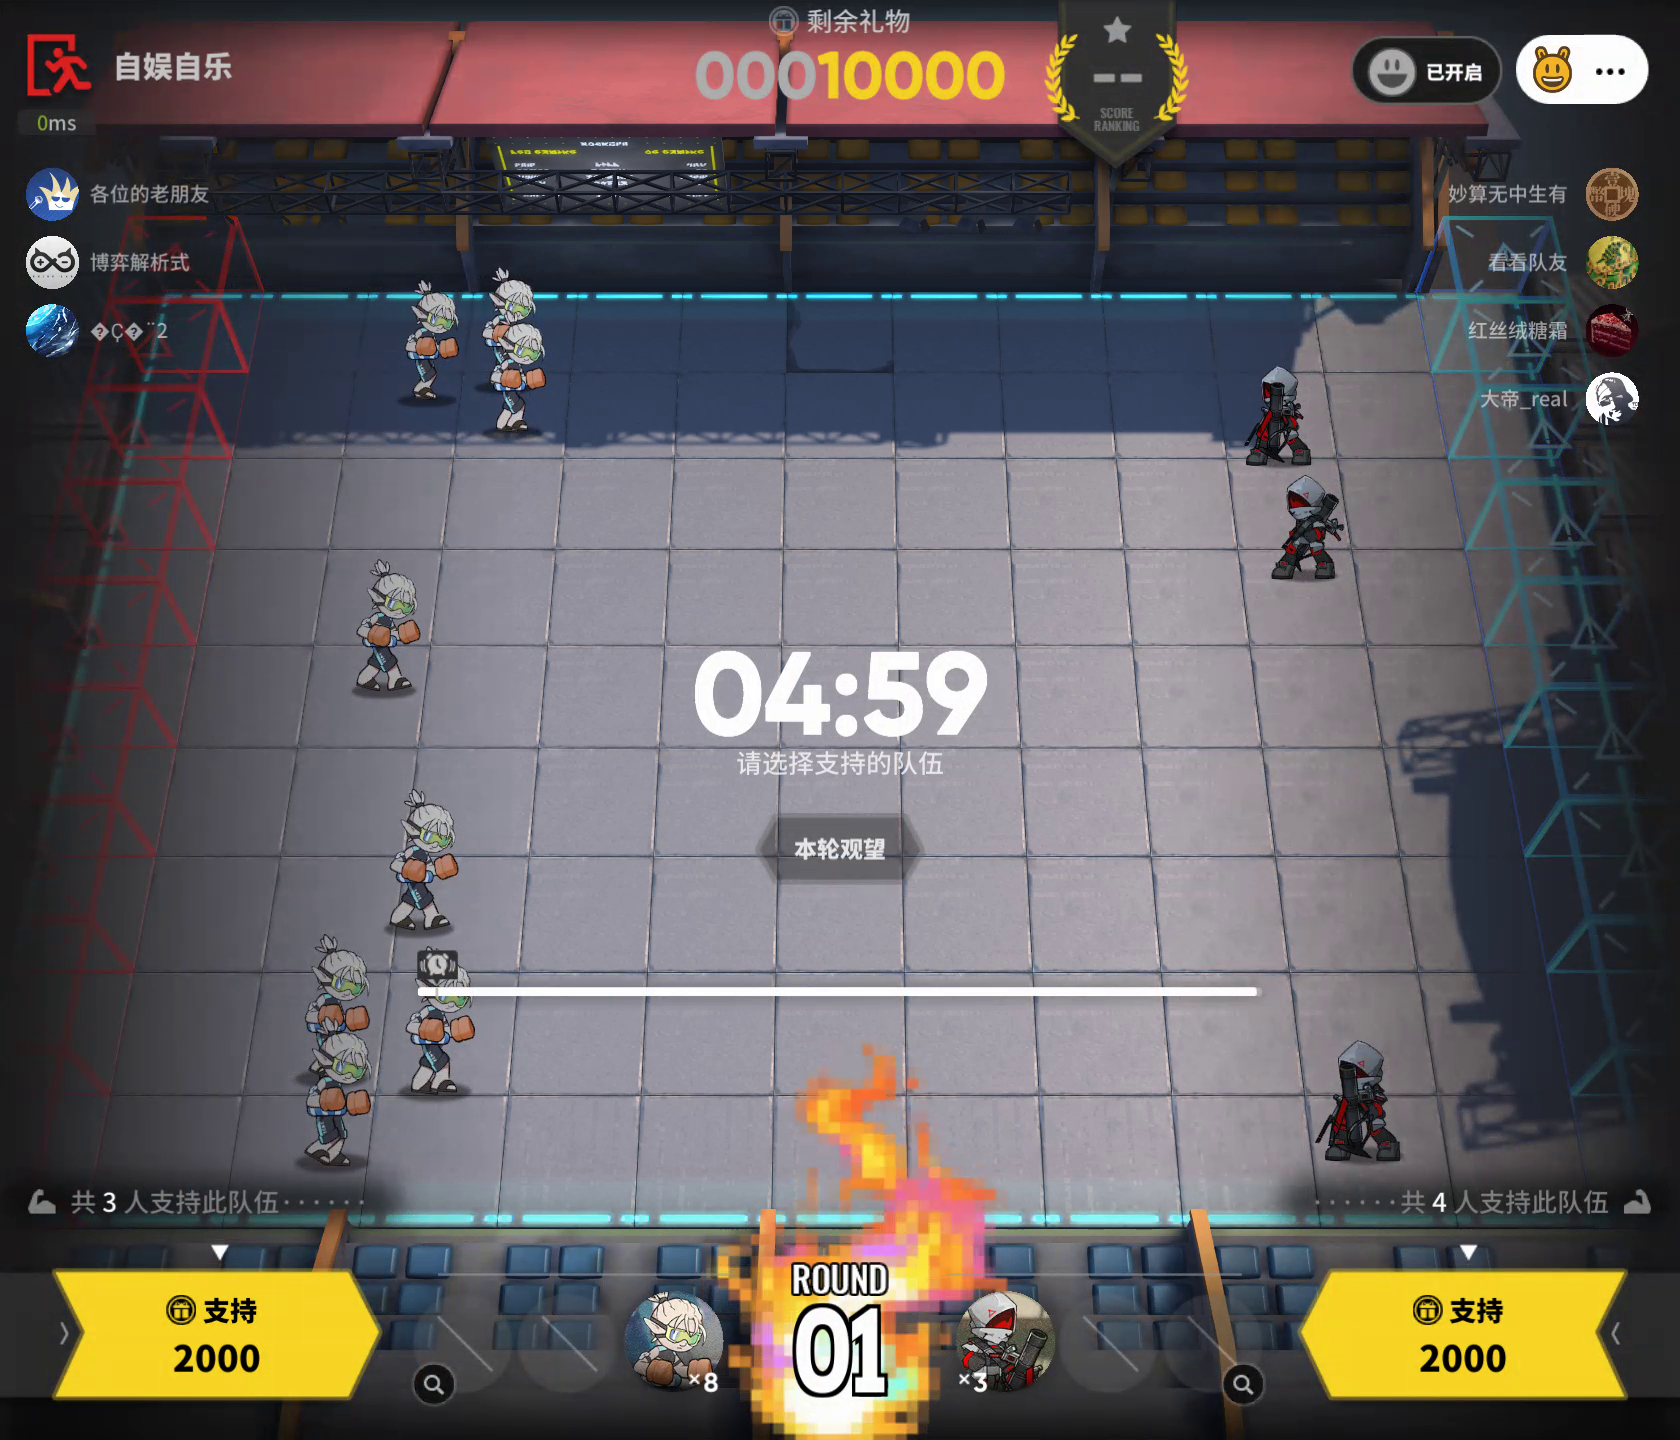拳击宗师: (347, 551, 449, 694), (379, 783, 461, 934), (400, 943, 481, 1096), (299, 1011, 376, 1171), (620, 1280, 731, 1390), (306, 923, 374, 1079), (481, 307, 557, 437), (483, 260, 546, 389), (401, 271, 461, 403)
迫击炮弹投手: (1314, 1031, 1410, 1167), (946, 1286, 1059, 1391), (1259, 469, 1351, 581), (1234, 360, 1324, 471)
